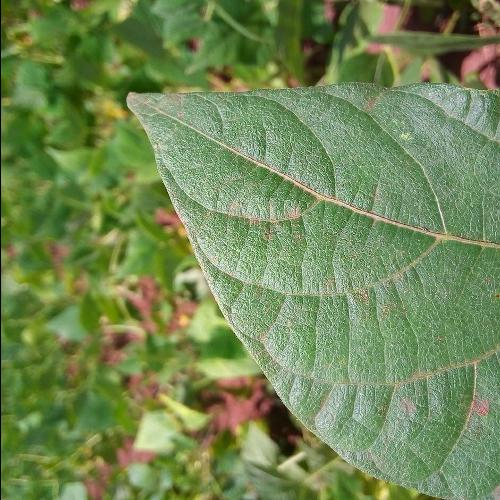hawar: (372, 380, 499, 428), (230, 195, 318, 250), (136, 85, 194, 137), (310, 274, 381, 316), (358, 87, 386, 116)
